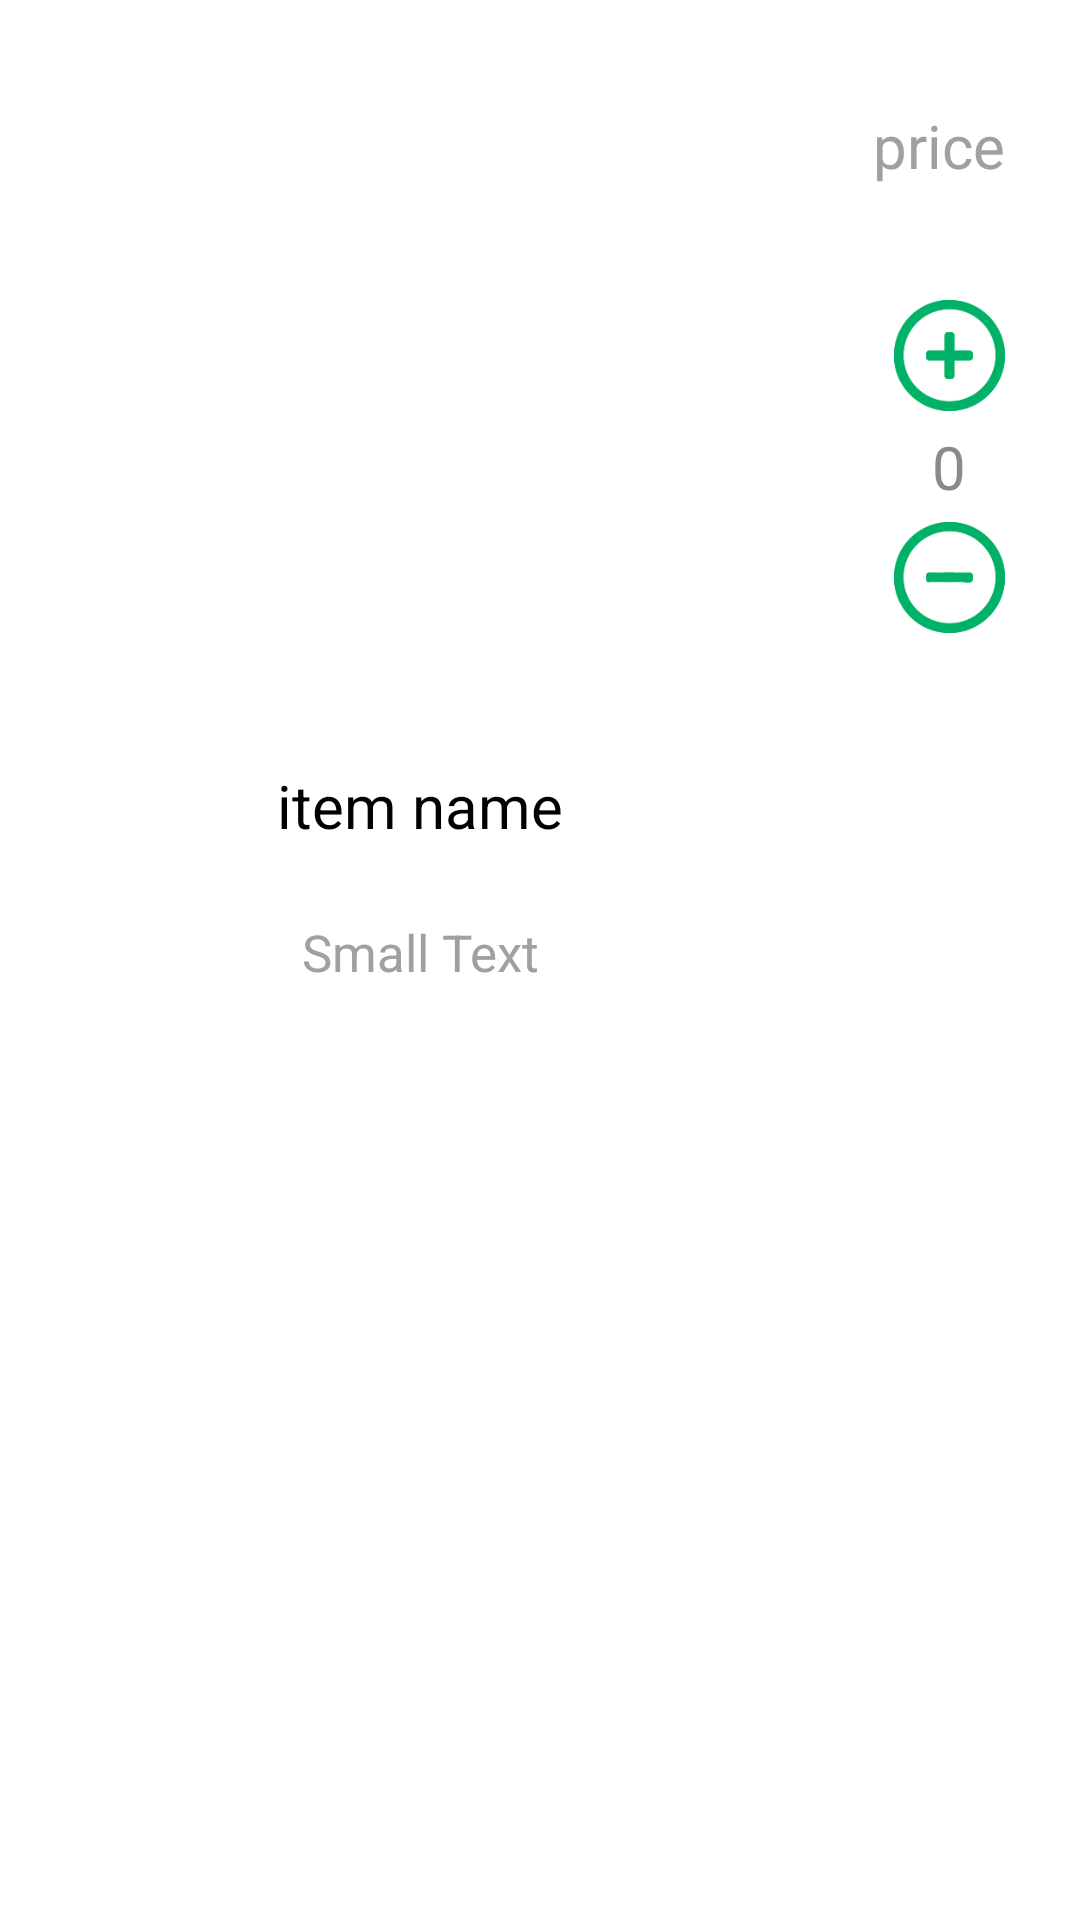

Point at icon controls on the screen. Image size 1080 × 1920, points as point (x, y).
minus: point (949, 577)
plus: point (949, 355)
